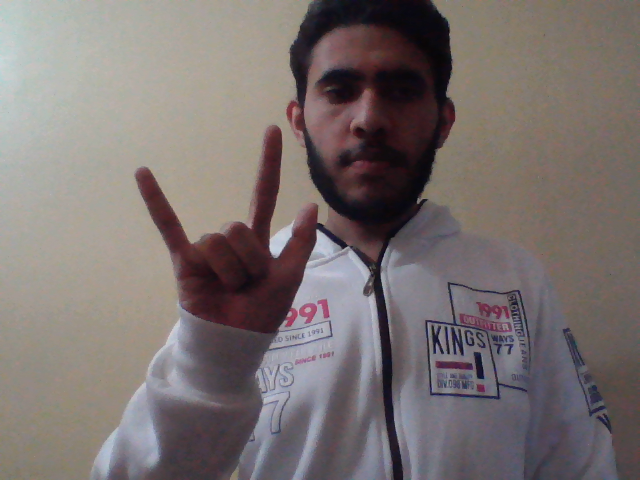iloveyou: (131, 120, 321, 347)
